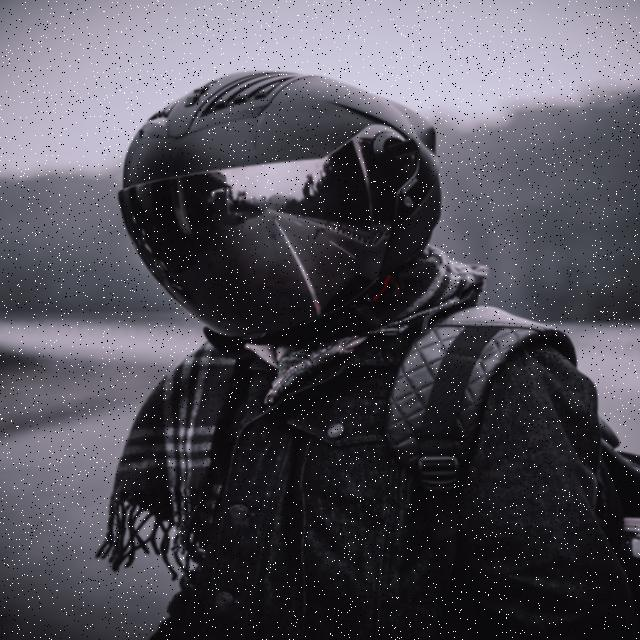not_ride_motorcycle: (112, 42, 640, 639)
with-helmet: (115, 66, 446, 350)
